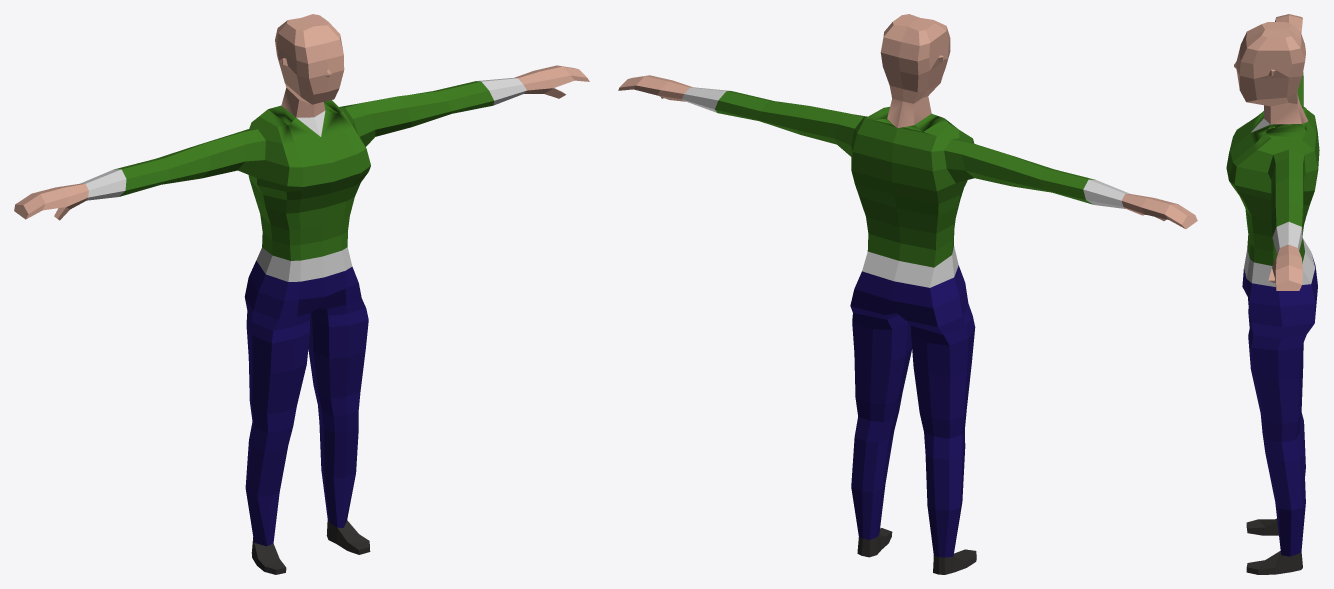
The model's file is Female.fbx.
3 views of the same model, side by side, from view 1: azimuth 30°, elevation 25°; view 2: azimuth 150°, elevation 25°; view 3: azimuth 270°, elevation 25° (orthographic). The views are drawn at different scales.
Parts seen in each view (by area): view 1: Cube.004; view 2: Cube.004; view 3: Cube.004.
Part boxes in pixels (<box>): Cube.004: <box>14,14,589,574</box>; Cube.004: <box>618,14,1197,574</box>; Cube.004: <box>1226,14,1319,574</box>.
Bounding box in the file's own units: 1709 × 1538 × 249.
